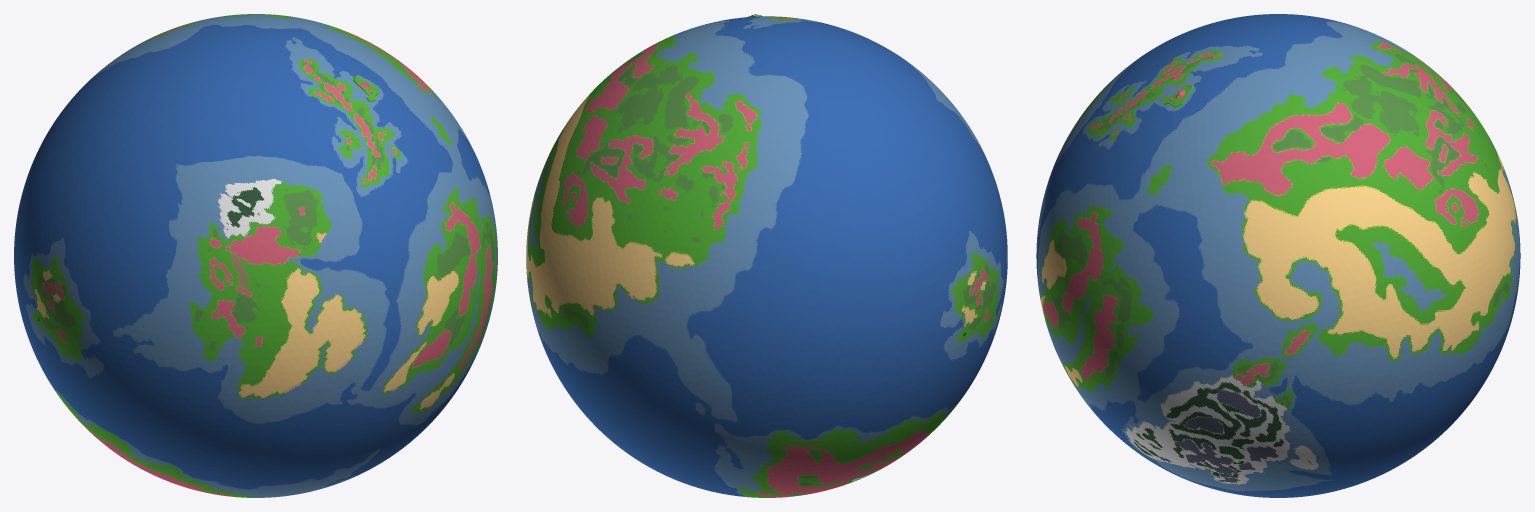
File: midgard.glb
3 renders of one model, left to right at view 1: azimuth 30°, elevation 25°; view 2: azimuth 150°, elevation 25°; view 3: azimuth 270°, elevation 25°, orthographic.
Visible parts, largest first — view 1: Icosphere; view 2: Icosphere; view 3: Icosphere.
Part boxes in pixels (bbox=[...]): Icosphere: bbox=[14, 14, 497, 497]; Icosphere: bbox=[526, 14, 1007, 497]; Icosphere: bbox=[1036, 14, 1520, 497].
Bounding box in the file's own units: 2 × 2 × 2.
1 material, 1 textured.
